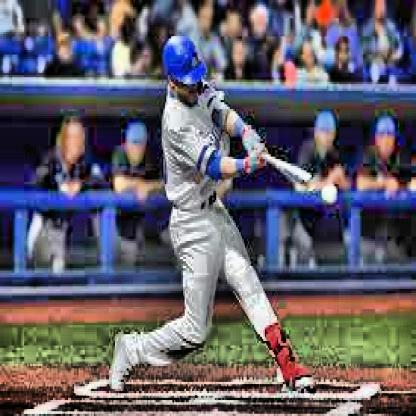baseball: (319, 181, 338, 210)
